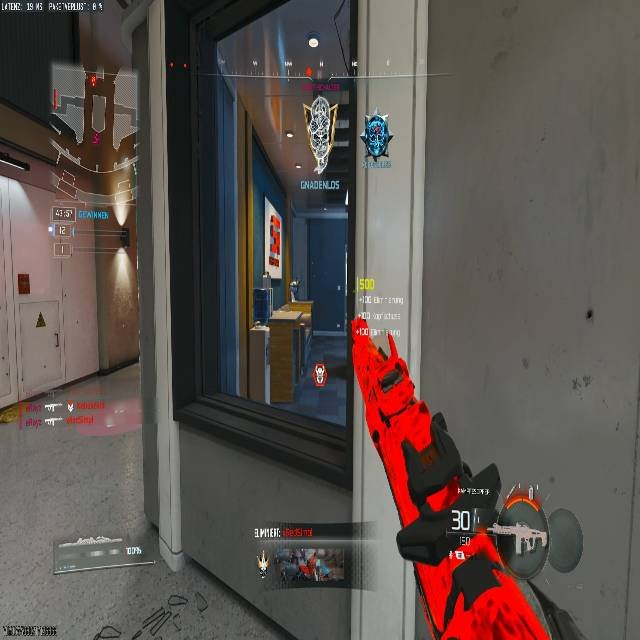player: (362, 108, 392, 163)
